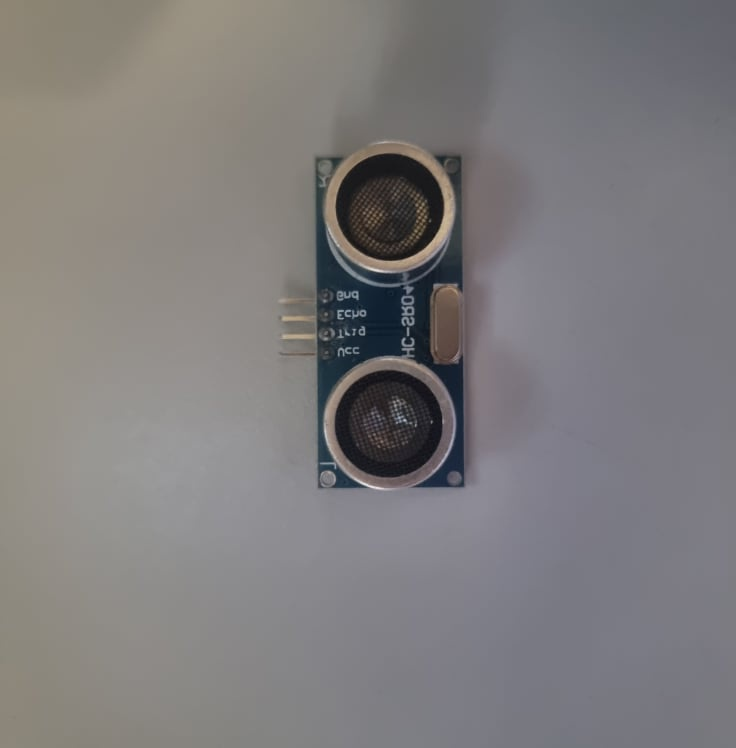SENSOR: (307, 139, 467, 494)
